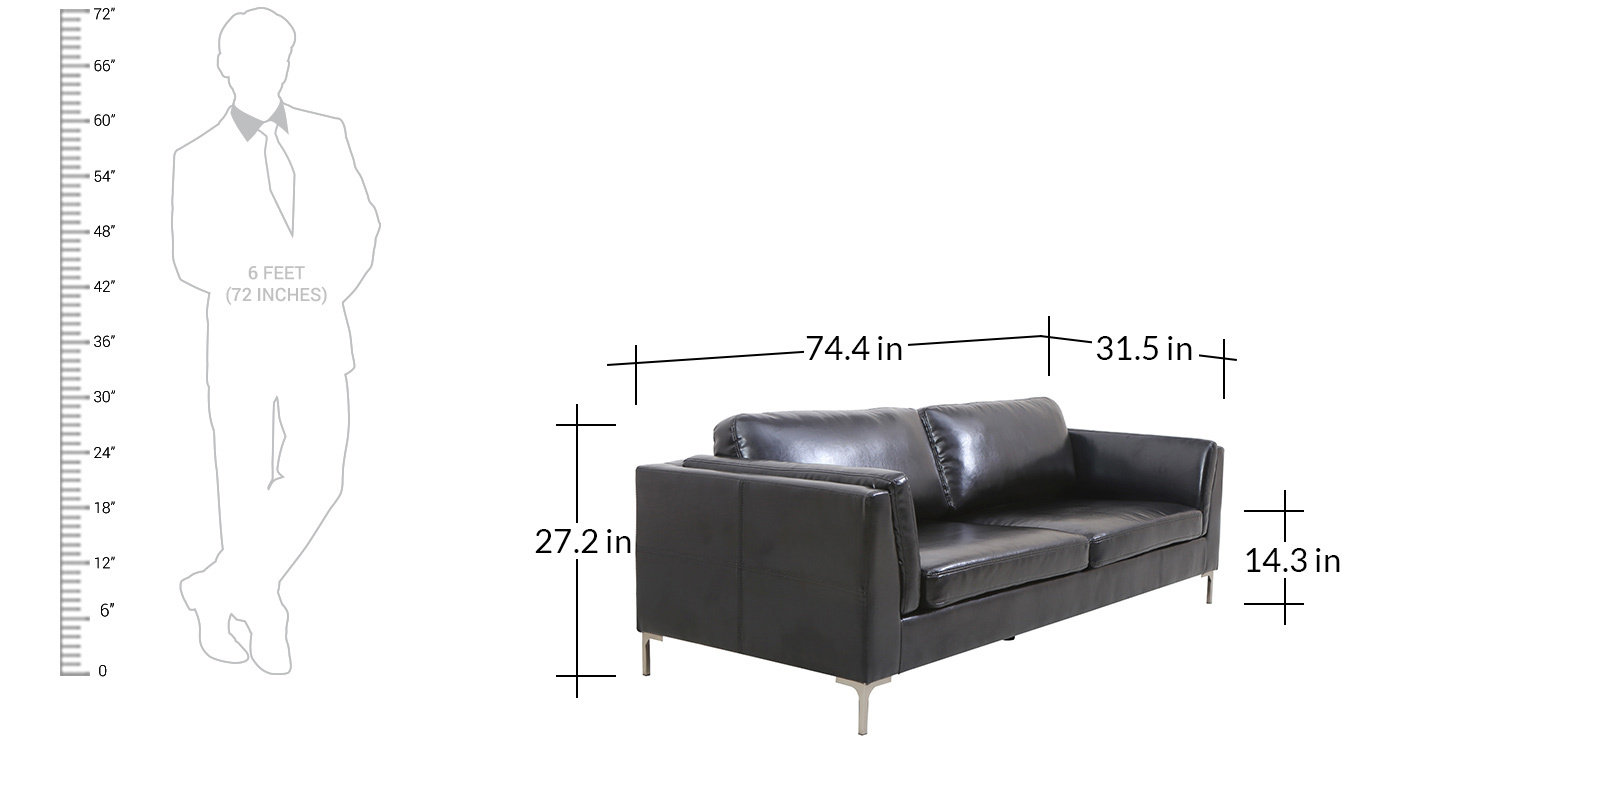Forma Three Seater Sofa in Black Colour by Zofa: (618, 401, 1255, 740)
